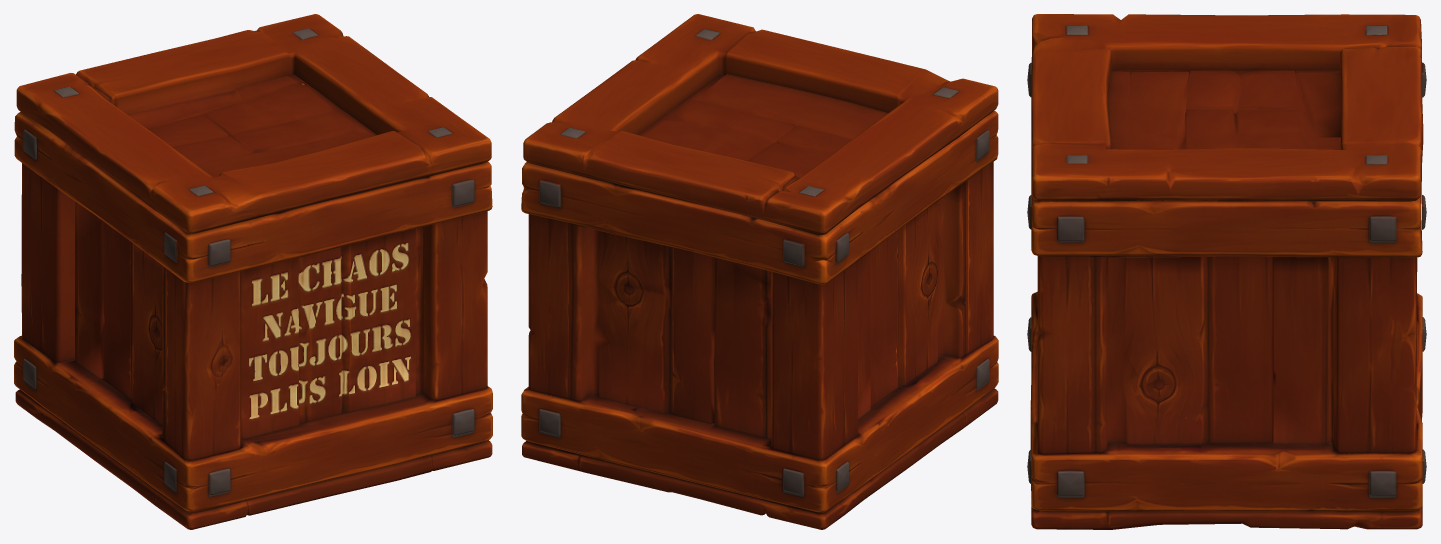
Rendered from supply_crate.glb.
3 views of the same model, side by side, from view 1: azimuth 30°, elevation 25°; view 2: azimuth 150°, elevation 25°; view 3: azimuth 270°, elevation 25° (orthographic). The views are drawn at different scales.
Visible parts, largest first — view 1: tripo_node_05332709-d64a-4f07-9892-474326aa3487; view 2: tripo_node_05332709-d64a-4f07-9892-474326aa3487; view 3: tripo_node_05332709-d64a-4f07-9892-474326aa3487.
Boxes of the visible parts, x1,y1,x2,y2 form: tripo_node_05332709-d64a-4f07-9892-474326aa3487: (14, 14, 492, 529); tripo_node_05332709-d64a-4f07-9892-474326aa3487: (521, 14, 998, 529); tripo_node_05332709-d64a-4f07-9892-474326aa3487: (1027, 14, 1426, 529).
Size of the model in its own units: 0.9995 by 0.9878 by 0.9995.
Materials: 1 (1 with a texture image).
